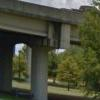Bridge: (5, 0, 72, 71)
